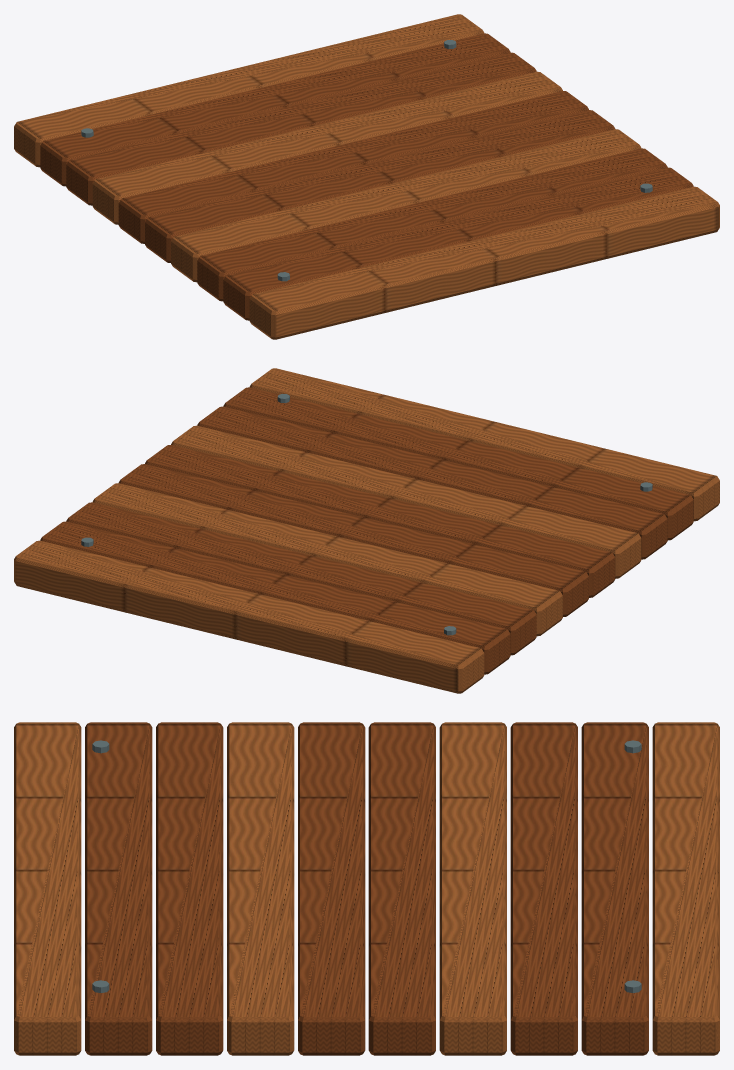
File: ocean-raft-settlement-ocean-raft-settlement-deck-floor-4deee828__28896.glb
The picture shows the model from 3 angles, top to bottom: view 1: azimuth 30°, elevation 25°; view 2: azimuth 150°, elevation 25°; view 3: azimuth 270°, elevation 25°; orthographic projection. The views are drawn at different scales.
Visible parts, largest first — view 1: wood, pale; view 2: wood, pale; view 3: wood, pale, iron.
Part boxes in pixels (<box>): wood: <box>40,33,693,320</box>; pale: <box>14,14,719,339</box>; wood: <box>40,387,693,674</box>; pale: <box>14,368,719,693</box>; wood: <box>85,722,648,1055</box>; pale: <box>14,722,719,1055</box>; iron: <box>92,740,641,992</box>.
Bounding box in the file's own units: 1.98 × 0.138 × 1.99.
3 materials, 2 textured.
